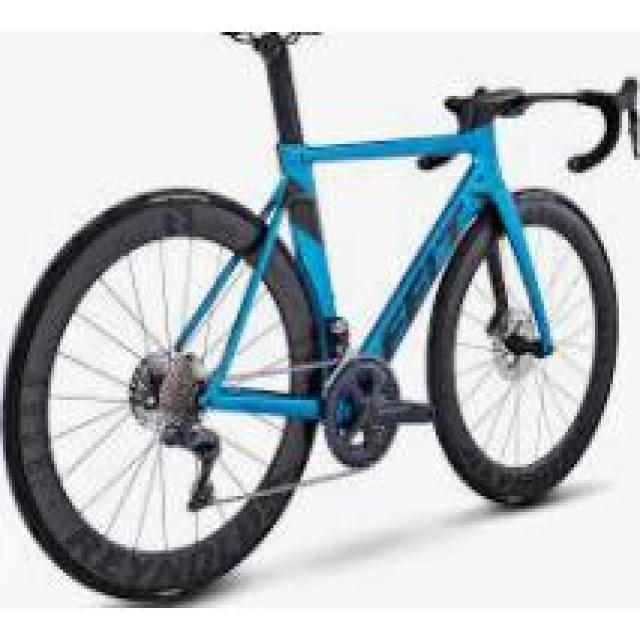bicycle: (1, 11, 617, 552)
